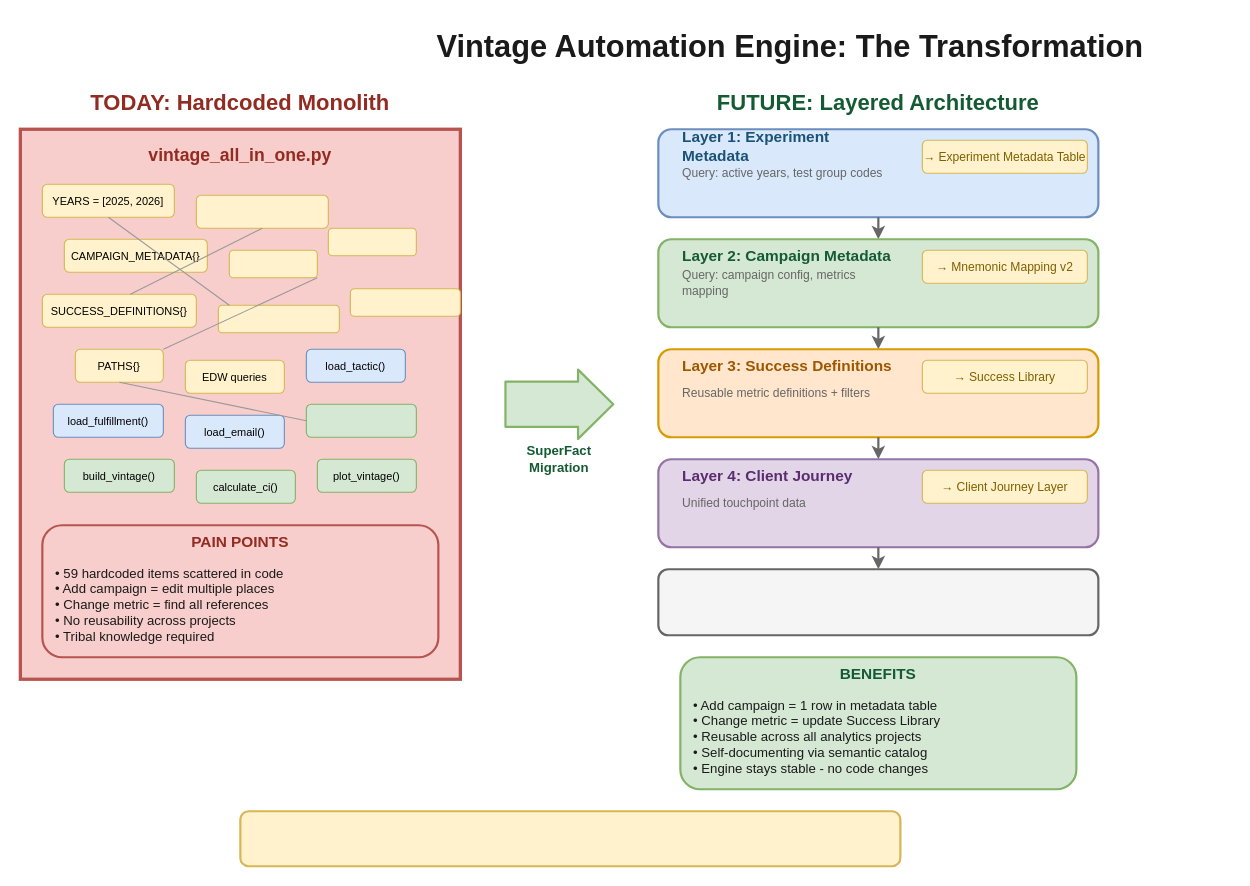
This 1250x886 diagram has some shape labels left out. The shapes that lost their labels are listed below. From the top down, each one's centre as x and y in pixels, then its label:
[261,211]: TEST_GROUP = "TG4"
[371,241]: VDA config
[272,263]: VCN config
[278,318]: card_acquisition filters
[404,302]: card_activation filters
[360,420]: detect_success()
[878,602]: Vintage Engine (Unchanged)
[570,838]: 59 hardcoded items become dynamic queries from governed semantic layers
